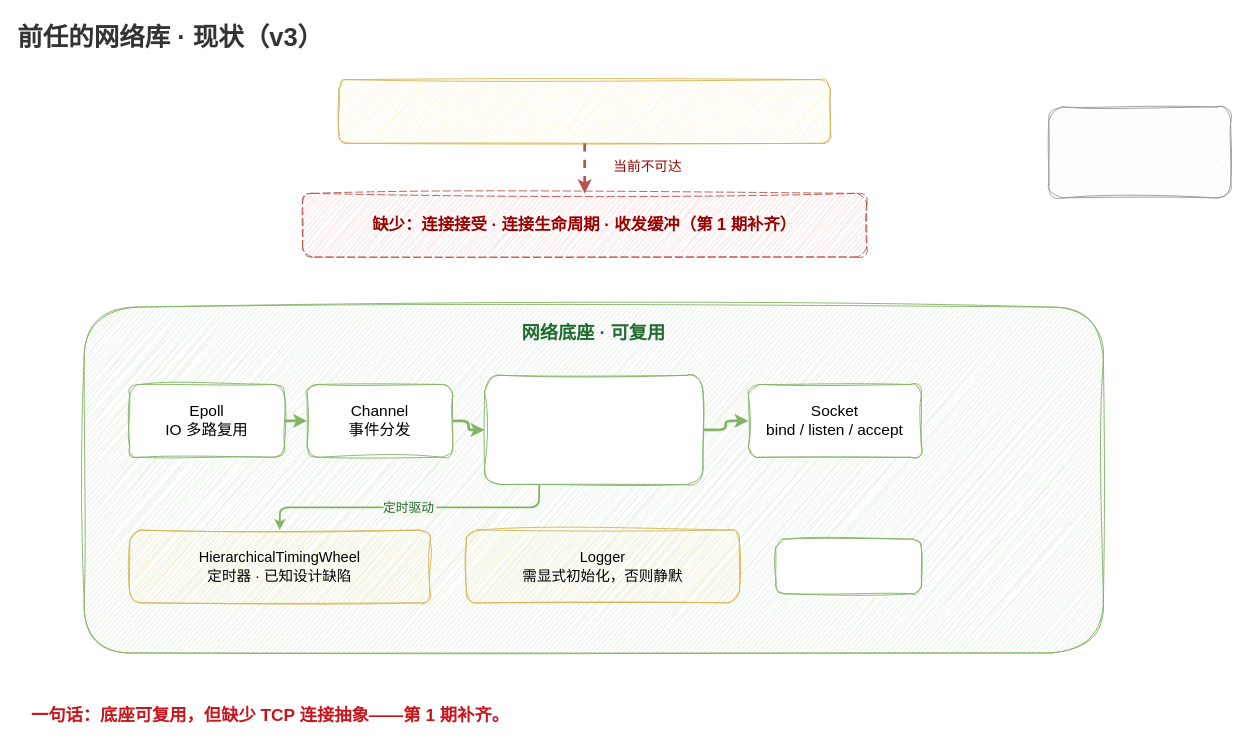
The diagram is 1247 pixels wide and 750 high, and some of its shapes have lost their labels. Here are the shapes that lost their labels. From the top down, the centre of each, then its label:
At pixel 584 111: "UE 客户端 需要：TCP 长连接 · 自定义协议".
At pixel 1139 152: "HTTP / WebSocket（Web 服务层，FPS 不使用）".
At pixel 593 429: "EventLoop 事件循环".
At pixel 848 566: "InetAddress".
